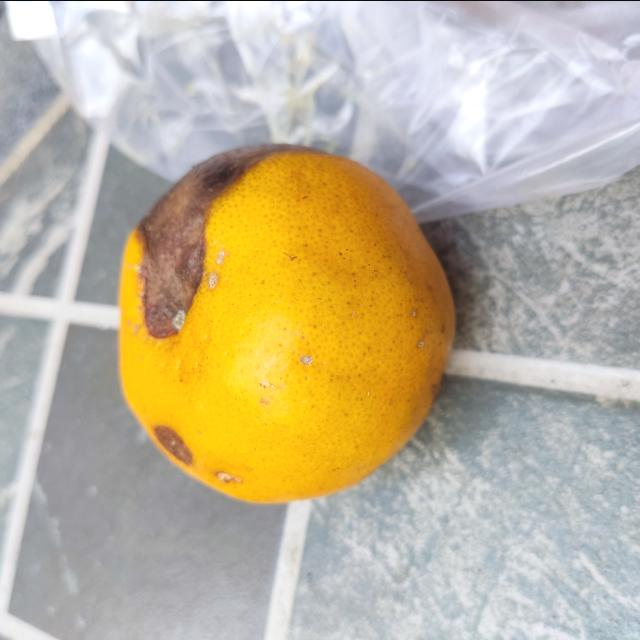orange: (112, 138, 458, 506)
